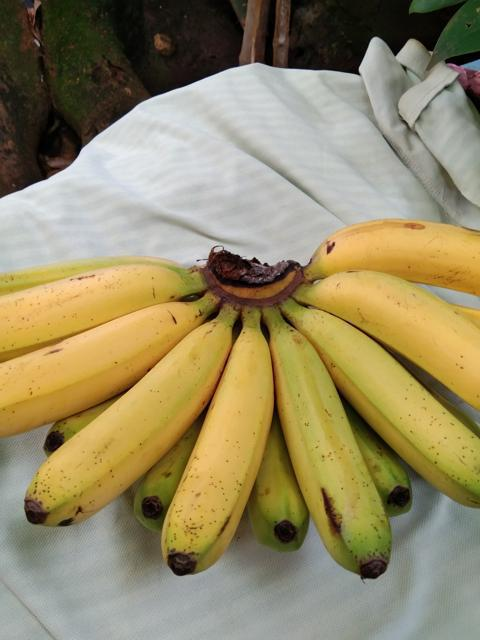freshripe: (0, 288, 189, 440), (325, 263, 479, 400)
ripe: (20, 320, 219, 524), (270, 325, 407, 594), (160, 322, 269, 579), (325, 204, 479, 310), (0, 255, 174, 344)
